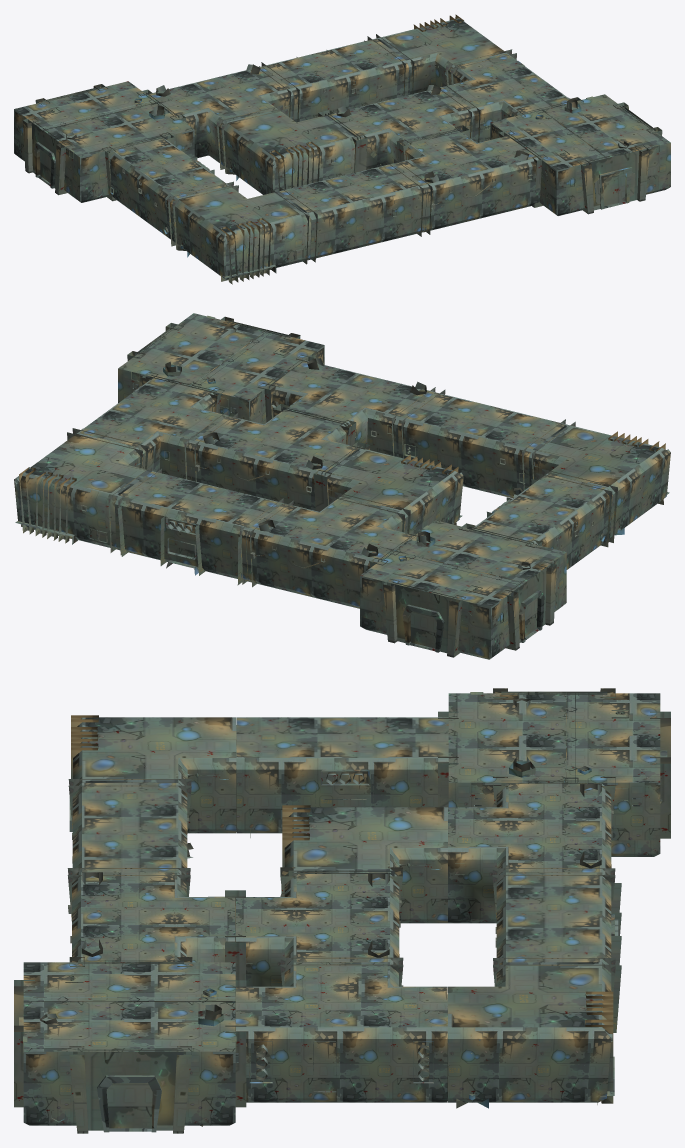
Rendered from Combined_Mesh_root_scene__2_ff295a5e__zombies2_diffuse_02_6de118bf_c1f257.obj.
The picture shows the model from 3 angles, top to bottom: view 1: azimuth 30°, elevation 25°; view 2: azimuth 150°, elevation 25°; view 3: azimuth 270°, elevation 25°; orthographic projection. The views are drawn at different scales.
Size of the model in its own units: 81.96 by 9.64 by 62.02.
Materials: 180 (180 with a texture image).
